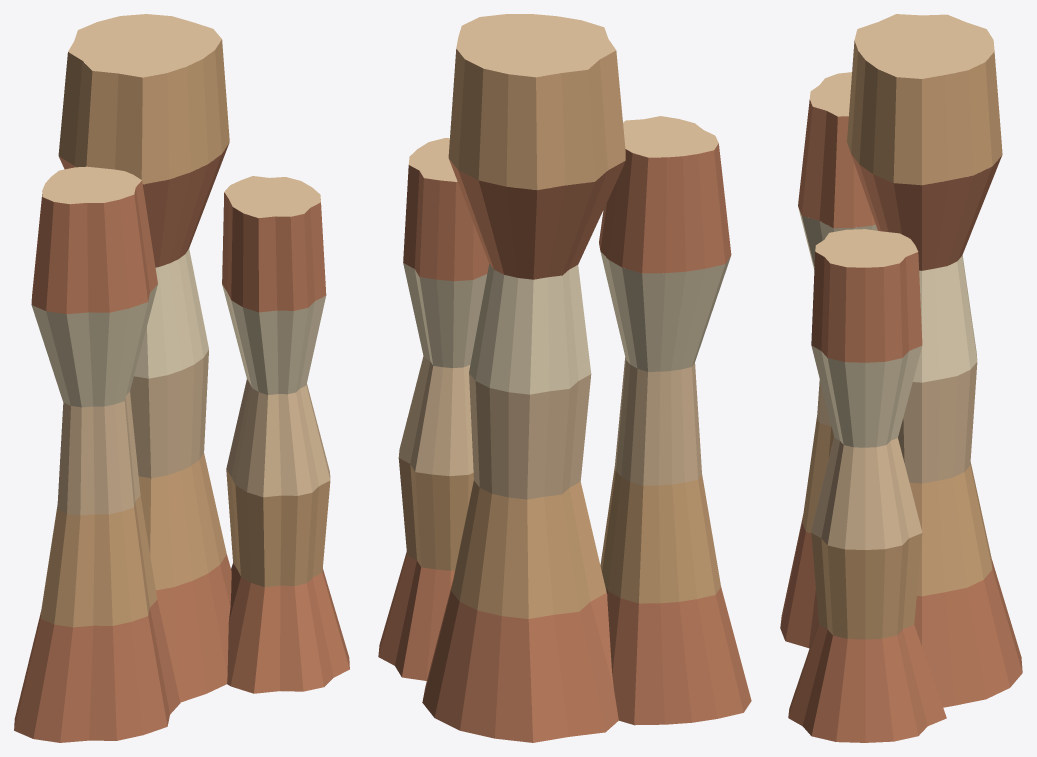
Rendered from desert-canyons-and-oases-hoodoo-trio-f0d0b68d__20896.glb.
The picture shows the model from 3 angles, left to right: view 1: azimuth 30°, elevation 25°; view 2: azimuth 150°, elevation 25°; view 3: azimuth 270°, elevation 25°; orthographic projection. The views are drawn at different scales.
Visible parts, largest first — view 1: hoodoo-trio; view 2: hoodoo-trio; view 3: hoodoo-trio.
Boxes of the visible parts, x1,y1,x2,y2 form: hoodoo-trio: [14, 14, 349, 742]; hoodoo-trio: [378, 14, 751, 742]; hoodoo-trio: [780, 14, 1022, 742].
Size of the model in its own units: 3.33 by 6 by 2.13.
